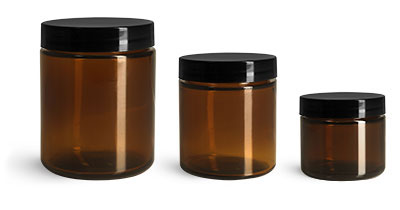glass_bottle: (36, 13, 162, 182), (174, 47, 280, 181), (296, 87, 388, 186)
